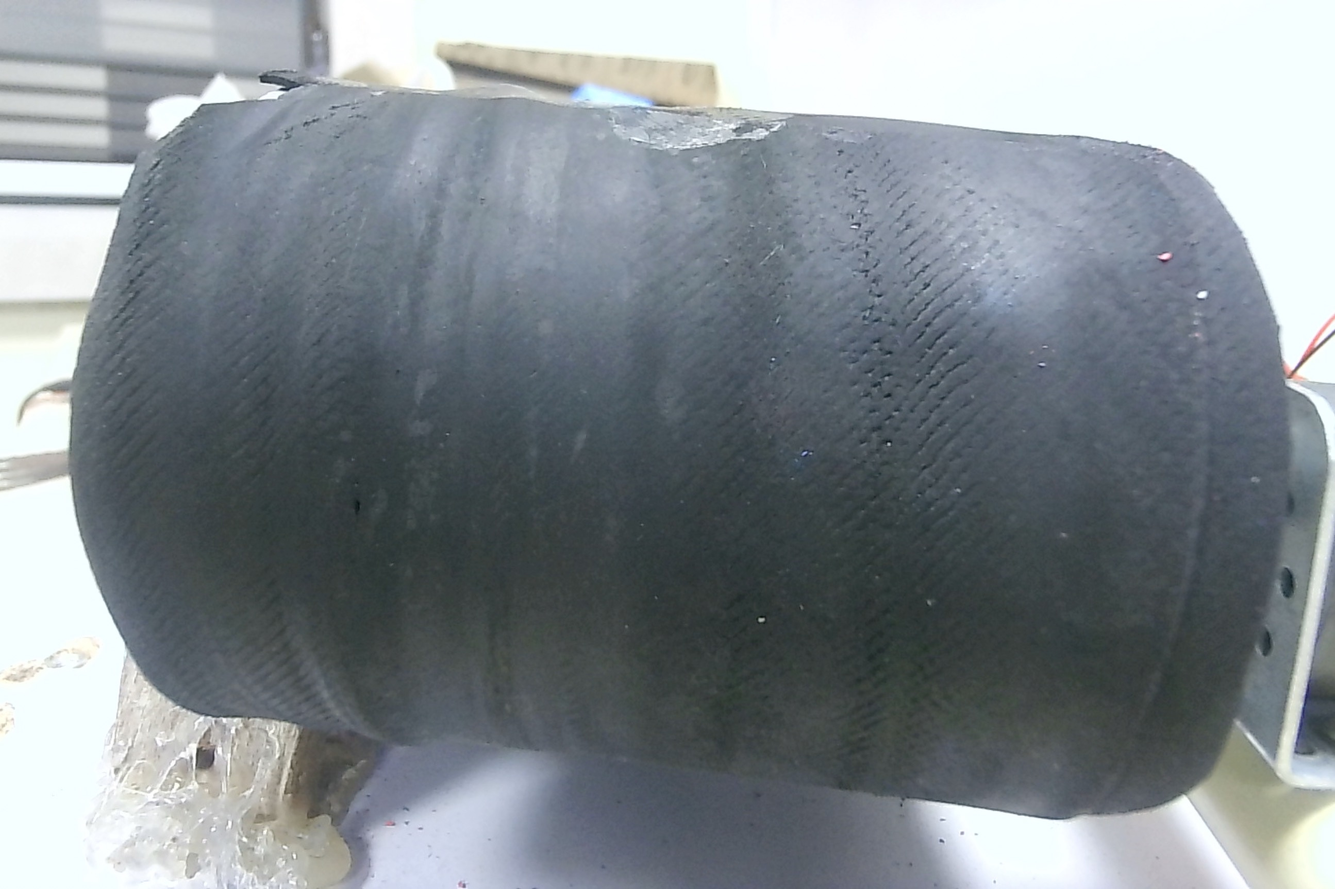joint_damage: (154, 64, 329, 107)
